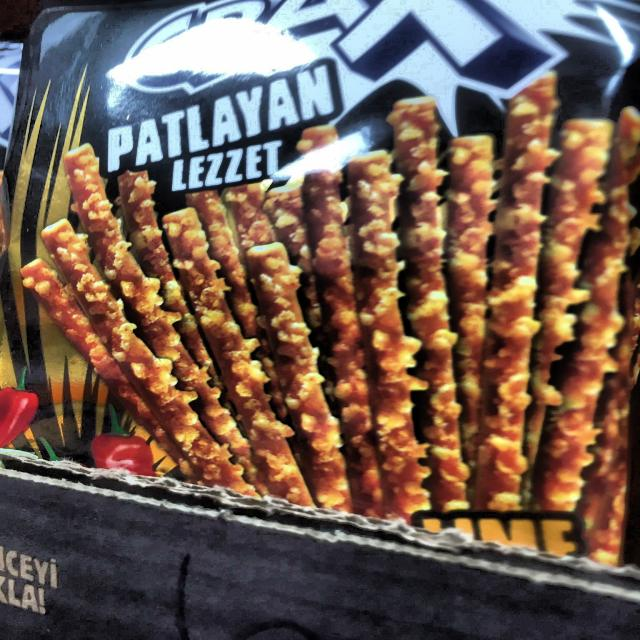Plastic: (21, 4, 627, 562)
